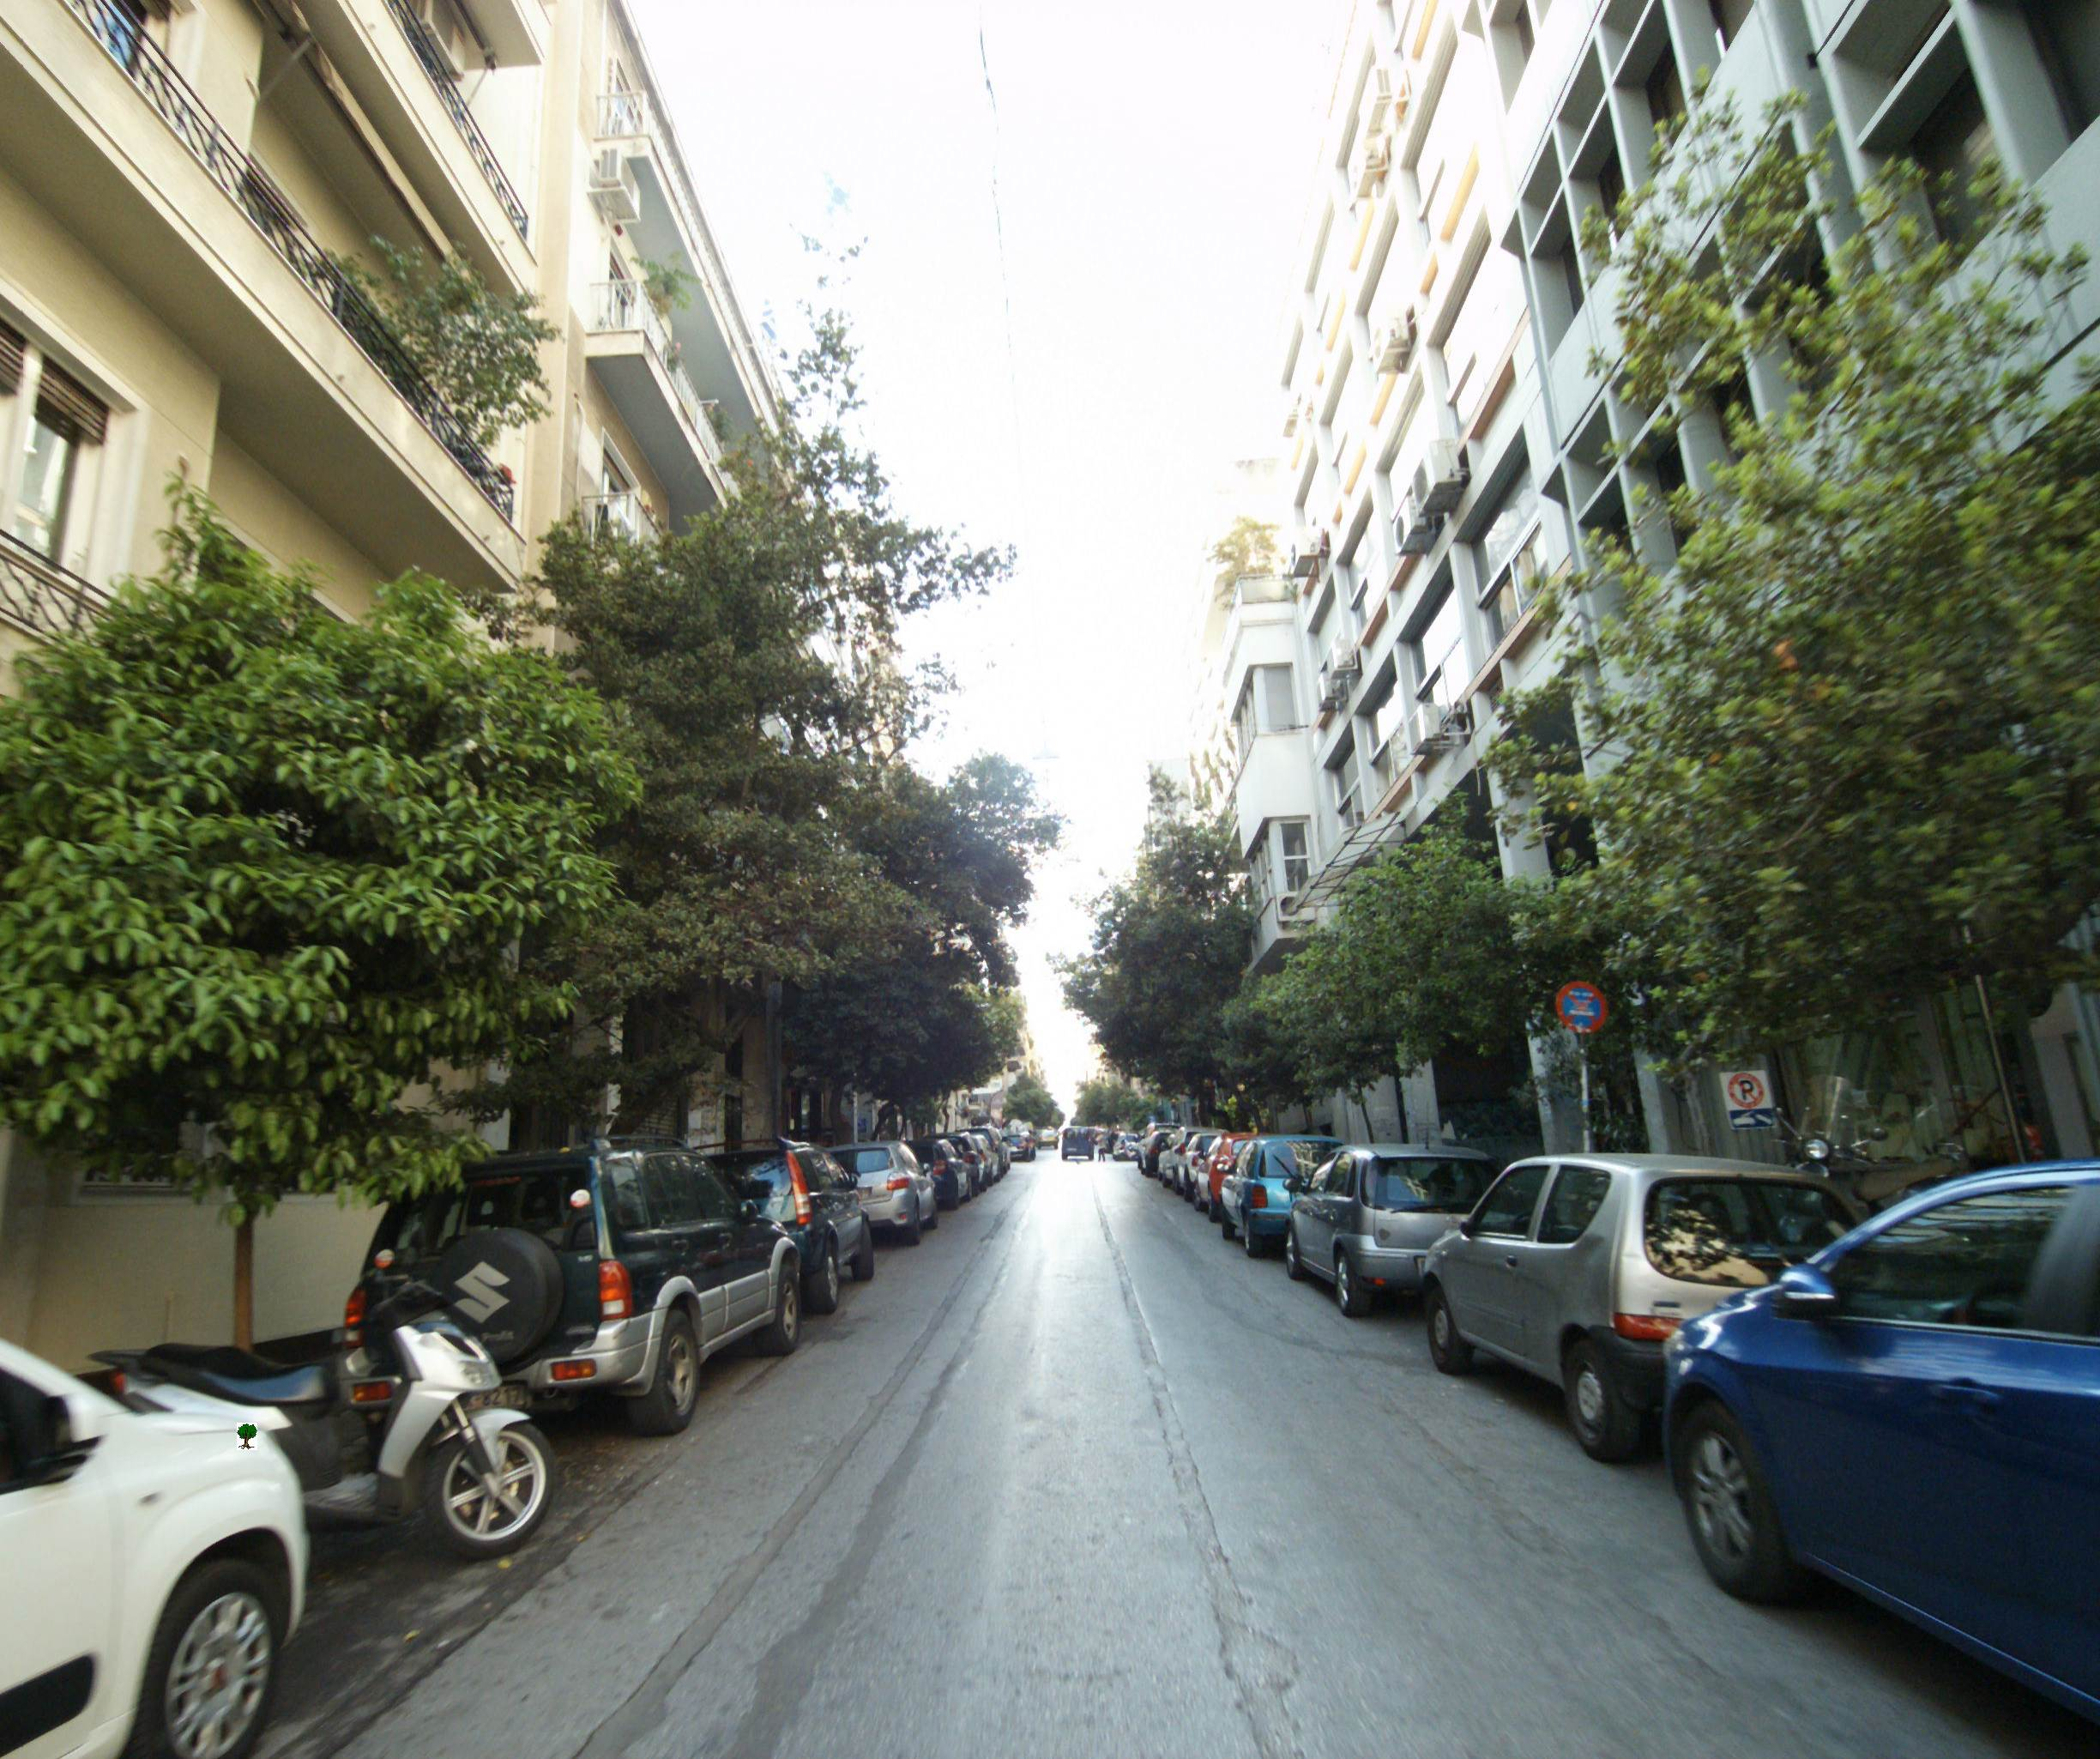tree: (30, 459, 546, 1490)
